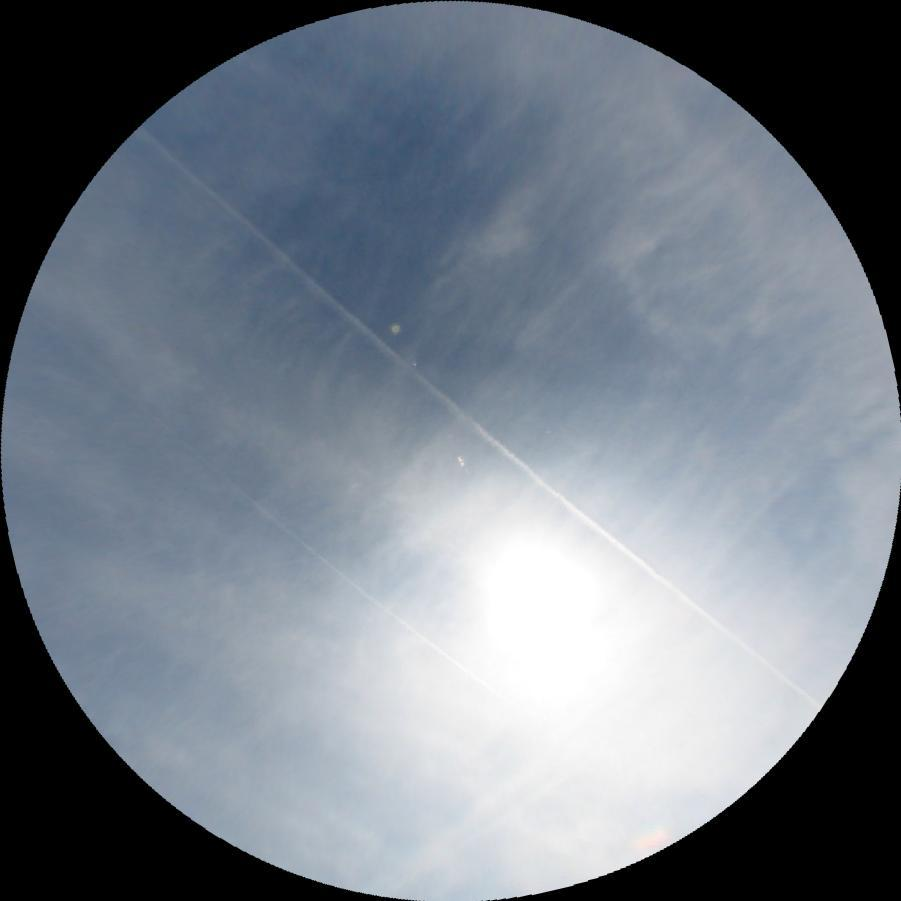contrail old: (130, 123, 821, 718), (250, 498, 508, 703)
sun: (464, 525, 607, 661)
